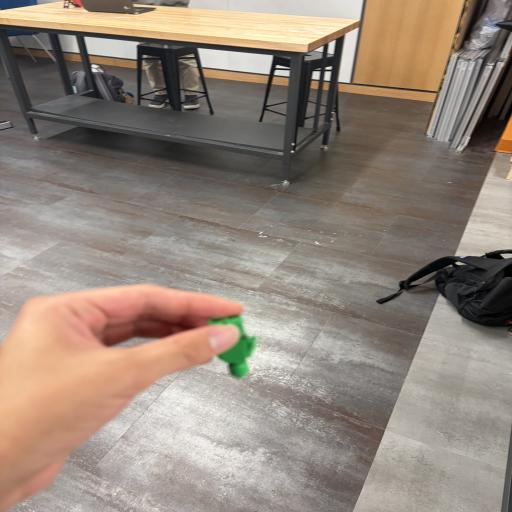Green-Lego: (209, 315, 256, 378)
